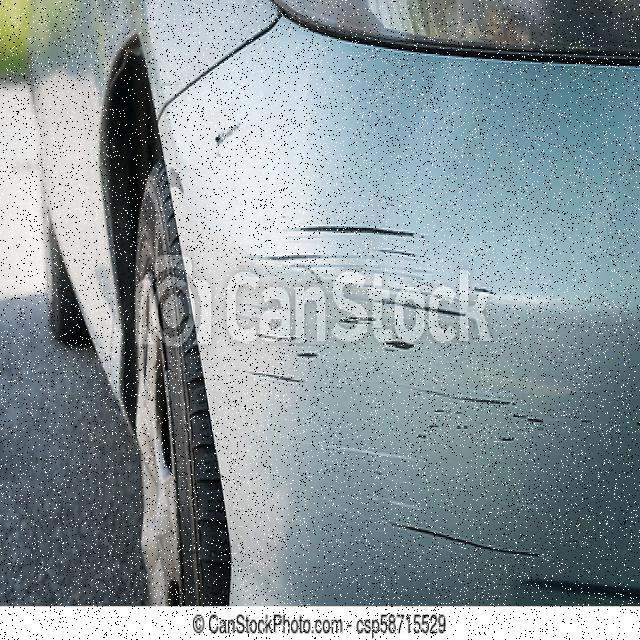front-bumper-dent: (141, 41, 639, 615)
